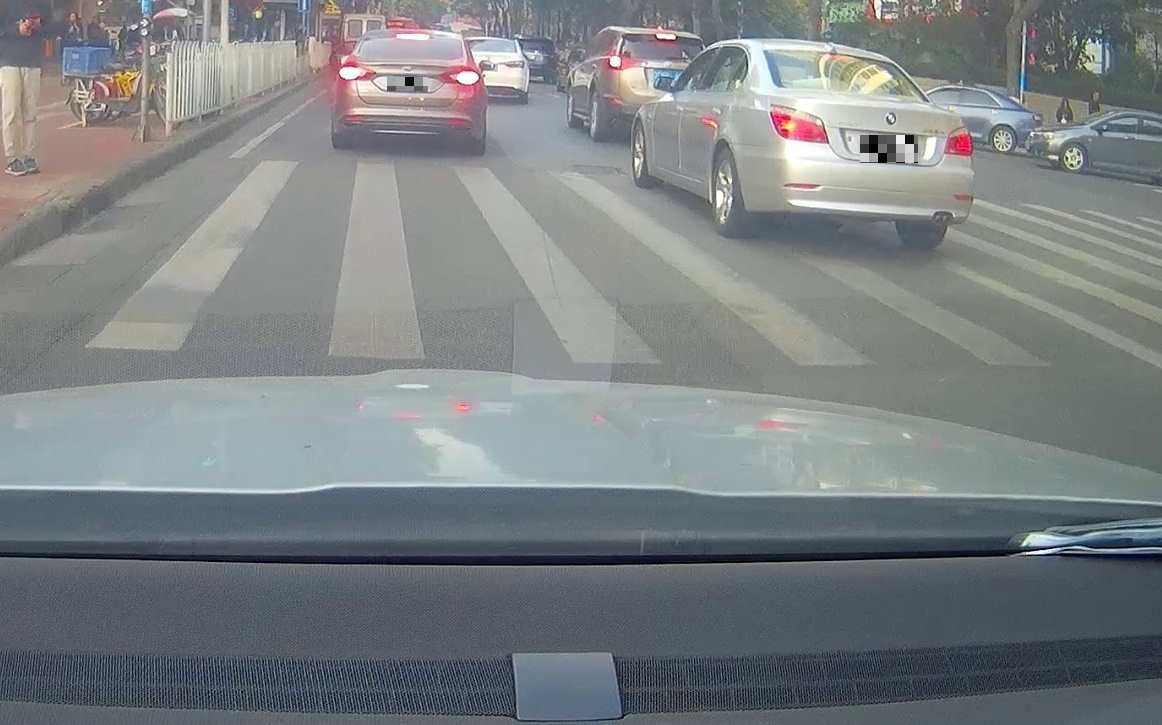L_light: (768, 103, 831, 144), (337, 59, 377, 81)
R_light: (943, 123, 973, 156), (436, 65, 481, 86)
T_light: (819, 50, 858, 62), (395, 31, 431, 41)
day-brake: (335, 28, 483, 154)
day-left: (757, 38, 975, 250)
plate_1: (387, 77, 428, 91)
plate_2: (860, 135, 918, 163)
